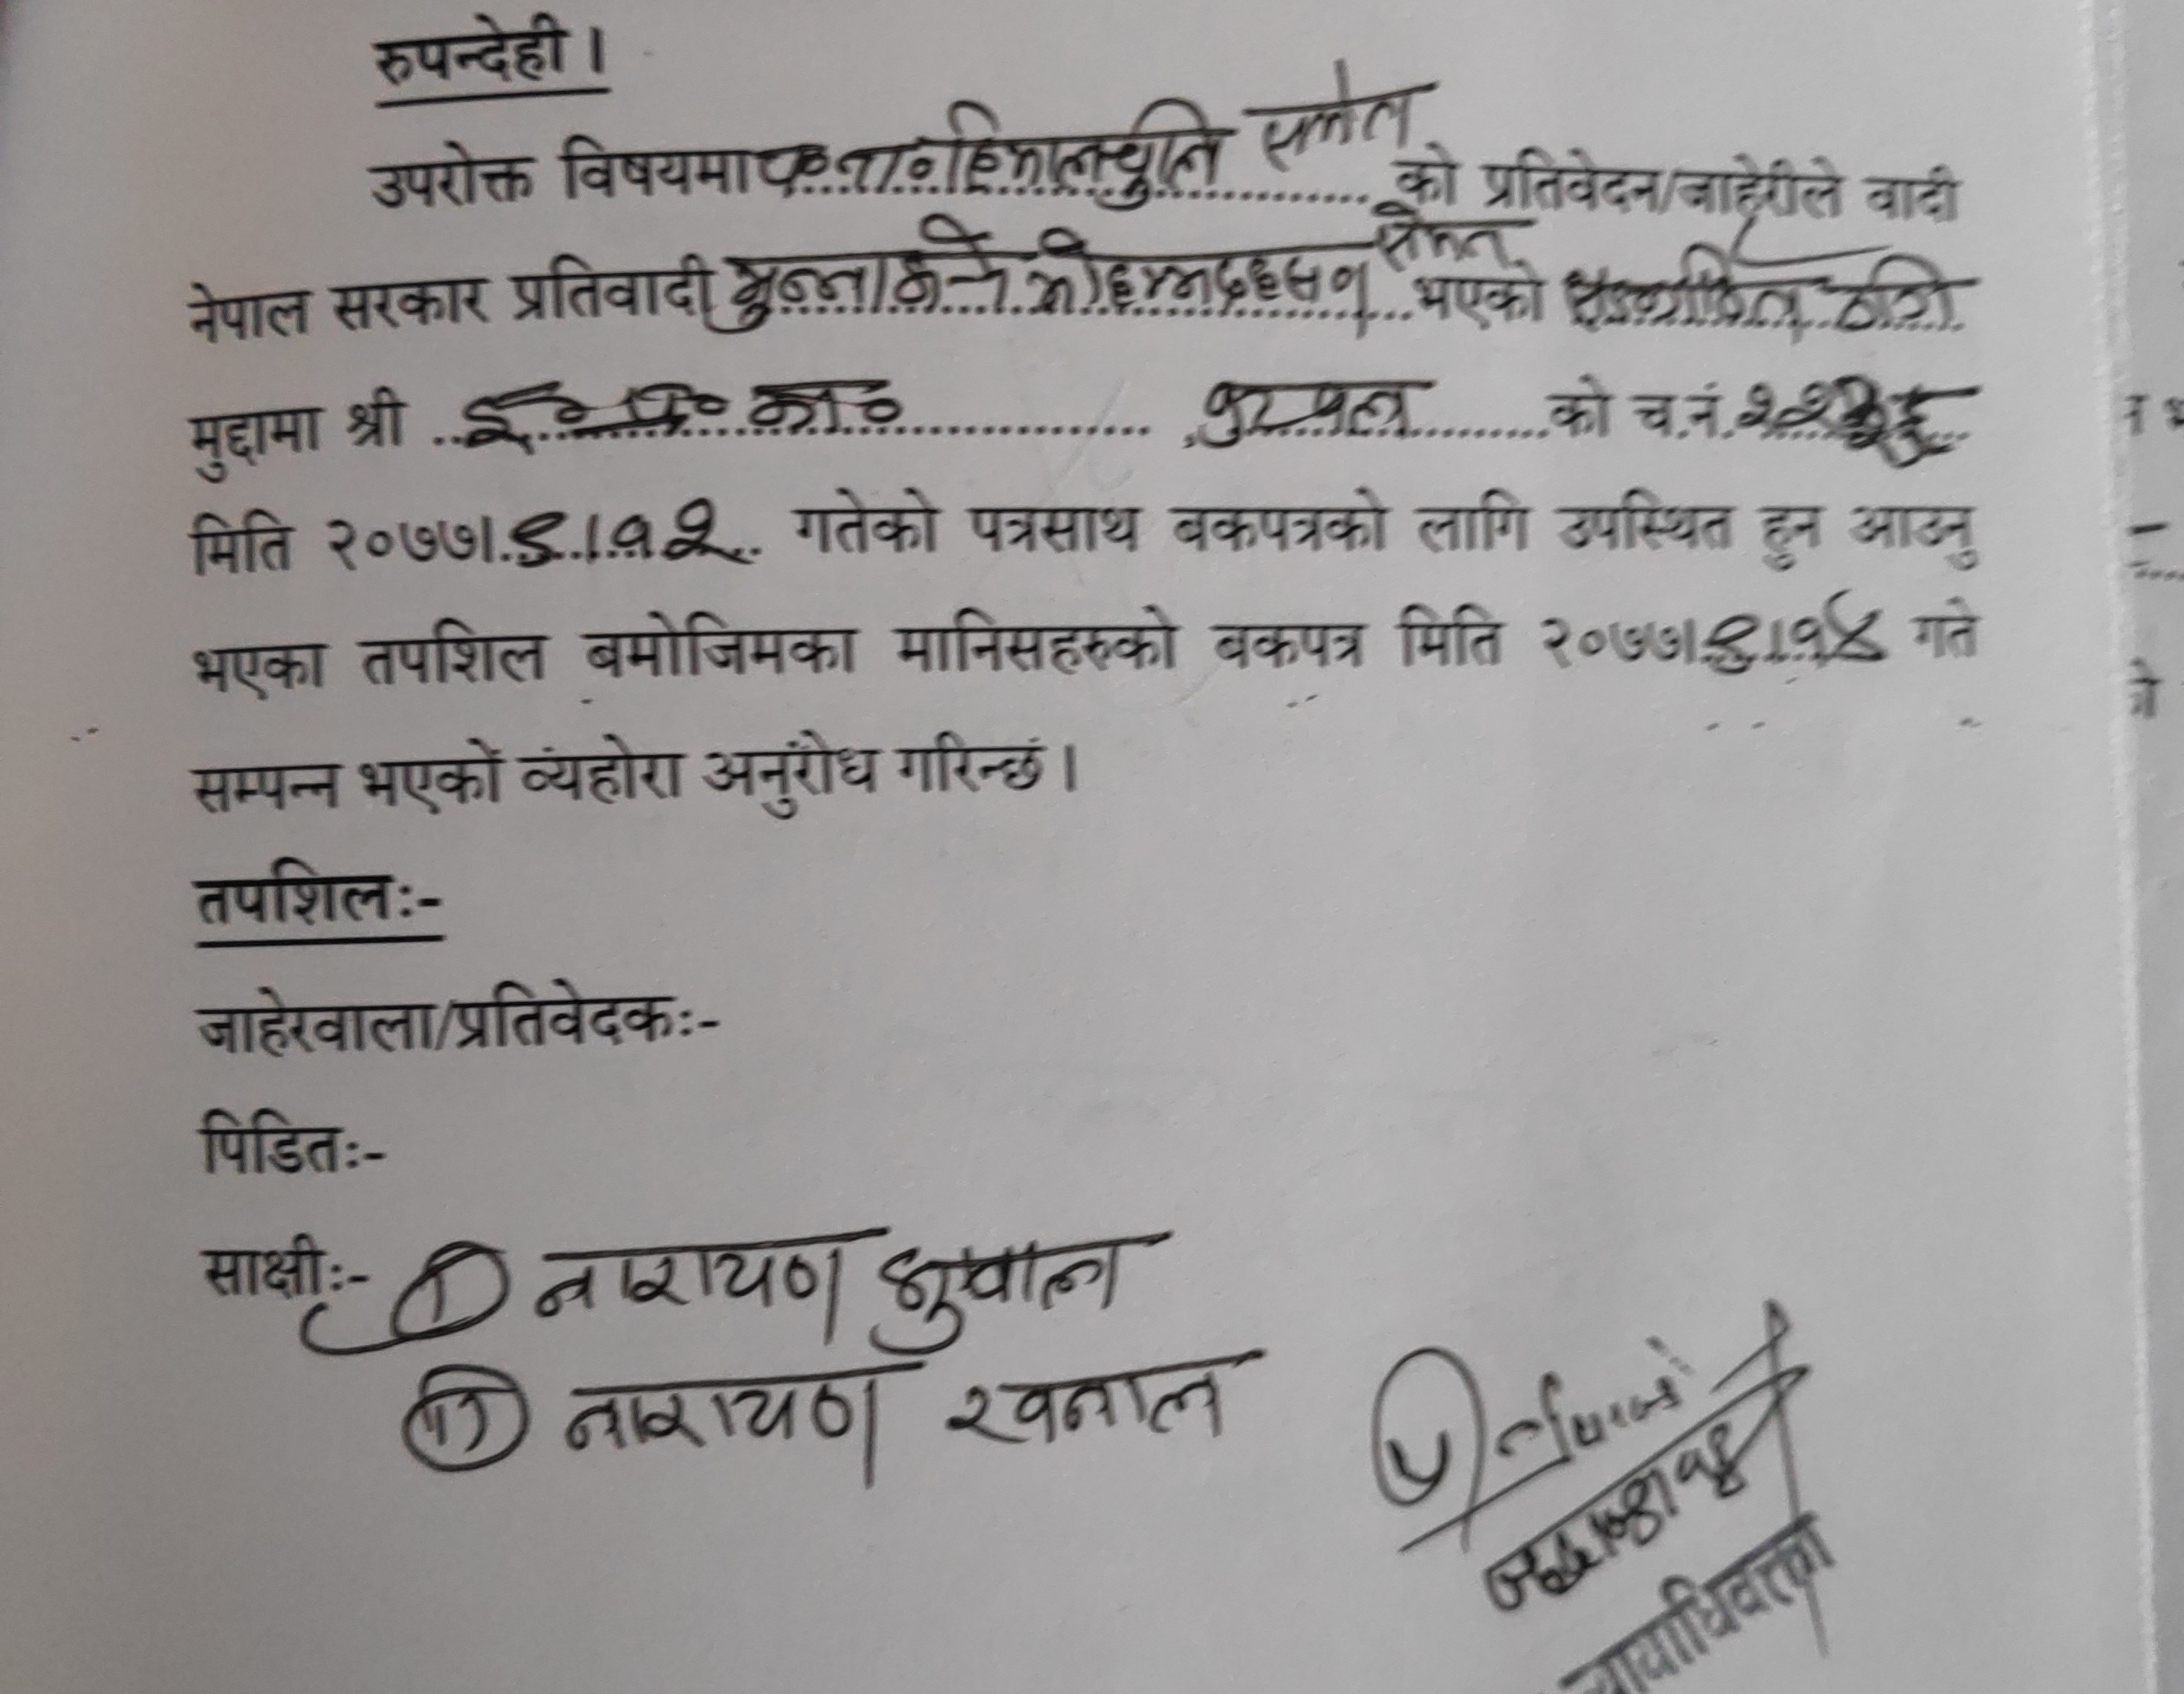text: (769, 90, 1232, 220), (555, 1350, 897, 1492), (711, 211, 1018, 346), (532, 1224, 865, 1347), (1018, 218, 1379, 328), (456, 365, 901, 448), (881, 1237, 1154, 1356), (1727, 365, 1984, 477), (934, 1356, 1234, 1451), (1555, 234, 1810, 346), (1243, 46, 1425, 167), (1191, 370, 1431, 450), (1826, 245, 1977, 344), (608, 491, 764, 587), (1789, 581, 1895, 680), (1374, 200, 1521, 269), (502, 489, 576, 583), (1720, 606, 1767, 686)
